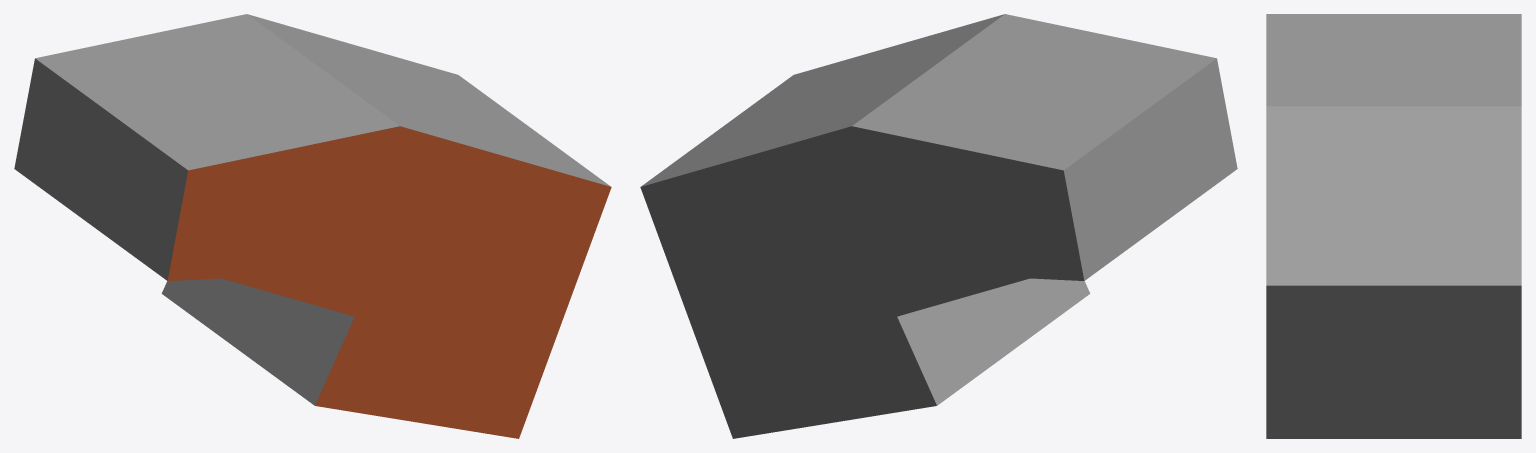
File: construction_6009_assumed_A_Casa_h6m.obj
3 renders of one model, left to right at view 1: azimuth 30°, elevation 25°; view 2: azimuth 150°, elevation 25°; view 3: azimuth 270°, elevation 25°, orthographic. The views are drawn at different scales.
Visible parts, largest first — view 1: construction_6009_assumed_A_Casa; view 2: construction_6009_assumed_A_Casa; view 3: construction_6009_assumed_A_Casa.
Part boxes in pixels (left/top/right/bottom): construction_6009_assumed_A_Casa: left=14, top=14, right=611, bottom=438; construction_6009_assumed_A_Casa: left=640, top=14, right=1237, bottom=438; construction_6009_assumed_A_Casa: left=1266, top=14, right=1521, bottom=438.
Size of the model in its own units: 10.04 by 7.54 by 6.
